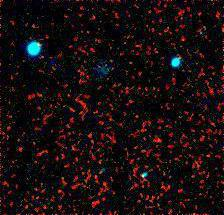star: (36, 49, 66, 79)
